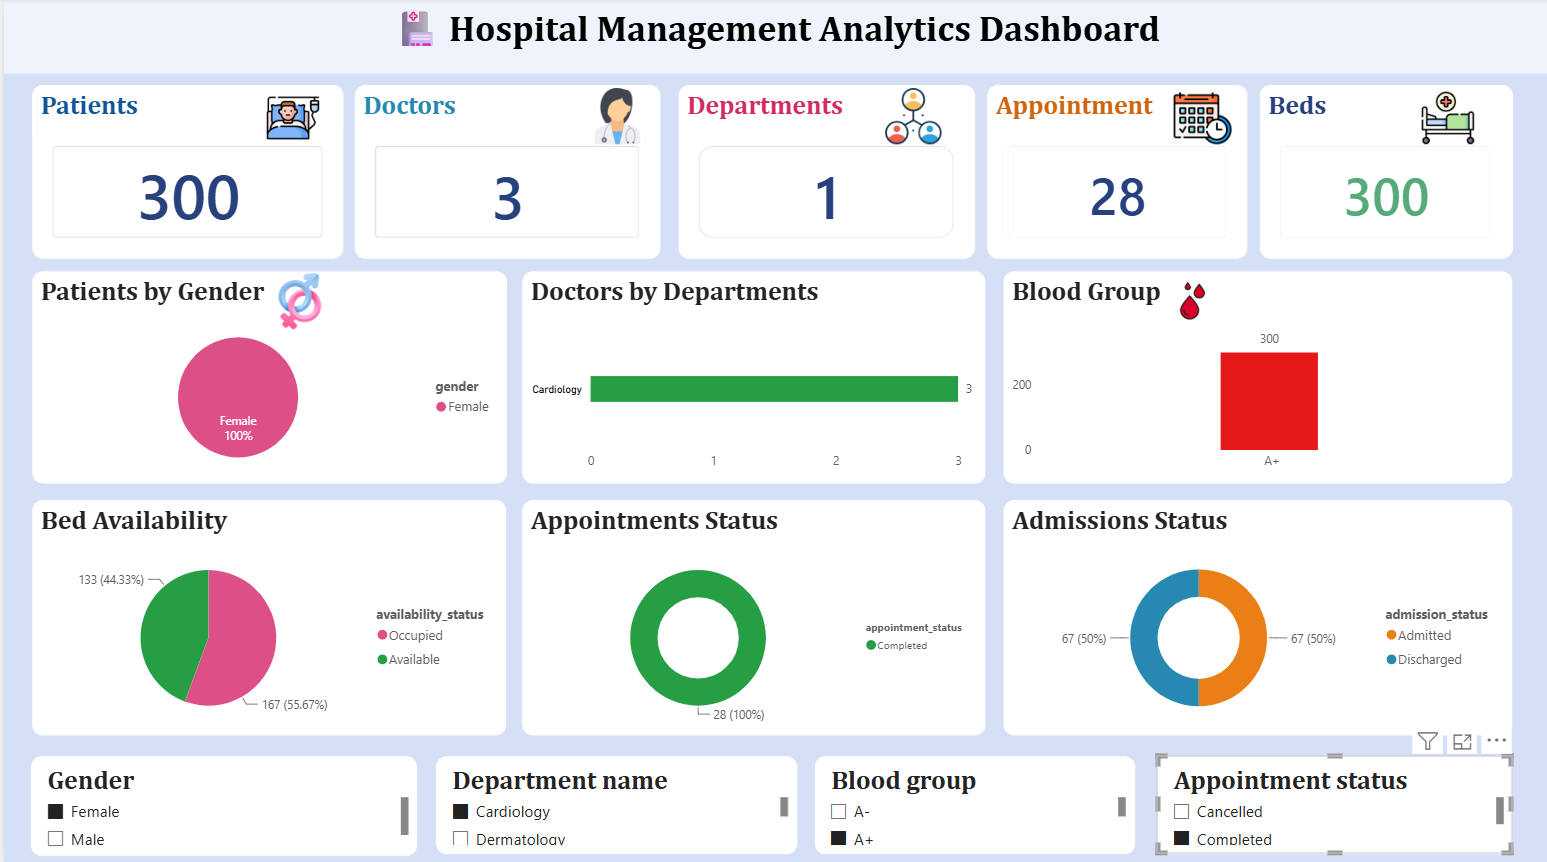

Layout of this report page (visuals, bound fields, positions):
{"tool":"powerbi","page":{"name":"Page 1","canvas":[1600,900],"ordinal":0},"visuals":[{"type":"cardVisual","title":"Beds","fields":{"Data":["CountNonNull(beds.bed_id)"]},"box":[1300,89.4,263.6,181.8],"z":2000},{"type":"cardVisual","title":"Appointment","fields":{"Data":["CountNonNull(appointments.appointment_id)"]},"box":[1017.5,89.3,271.2,181.8],"z":3000},{"type":"pieChart","title":"Patients by Gender","fields":{"Category":["patients.gender"],"Y":["CountNonNull(patients.patient_id)"]},"box":[27.9,281.9,493.9,221.2],"z":4000},{"type":"clusteredBarChart","title":"Doctors by Departments","fields":{"Category":["departments.department_name"],"Y":["CountNonNull(doctors.doctor_id)"]},"box":[536.4,281.8,481.8,221.2],"z":5000},{"type":"donutChart","title":"Appointments Status","fields":{"Category":["appointments.appointment_status"],"Y":["CountNonNull(appointments.appointment_id)"]},"box":[536.4,519.7,481.8,245.5],"z":6000},{"type":"clusteredColumnChart","title":"Blood Group","fields":{"Category":["patients.blood_group"],"Y":["CountNonNull(patients.patient_id)"]},"box":[1034.8,281.8,528.8,221.2],"z":7000},{"type":"pieChart","title":"Bed Availability","fields":{"Category":["beds.availability_status"],"Y":["CountNonNull(beds.bed_id)"]},"box":[28.8,519.7,492.4,245.5],"z":8000},{"type":"donutChart","title":"Admissions Status","fields":{"Category":["admissions.admission_status"],"Y":["CountNonNull(admissions.admission_id)"]},"box":[1034.8,519.7,528.8,245.5],"z":9000},{"type":"textbox","box":[0,0,1599.6,78.2],"z":10000},{"type":"slicer","fields":{"Values":["patients.gender"]},"box":[27.3,784.8,401.5,104.5],"z":11000},{"type":"slicer","fields":{"Values":["patients.blood_group"]},"box":[839.4,784.8,333.3,103],"z":12000},{"type":"slicer","fields":{"Values":["appointments.appointment_status"]},"box":[1193.9,784.8,369.7,103],"z":13000},{"type":"cardVisual","title":"Doctors","fields":{"Data":["CountNonNull(doctors.doctor_id)"]},"box":[362.9,89.3,318.2,181.8],"z":14000},{"type":"slicer","fields":{"Values":["departments.department_name"]},"box":[447,784.8,375.8,103],"z":15000},{"type":"group","id":"g1","title":"Group 1","box":[27.9,90,324.2,181.8],"z":15002},{"type":"image","box":[604.4,93.5,61.4,58.6],"z":15003},{"type":"image","box":[1207.4,94.9,69.8,60],"z":15005},{"type":"image","box":[1461.4,97.7,69.8,54.4],"z":15006},{"type":"image","box":[1207.4,294.5,48.9,39.1],"z":15007},{"type":"image","box":[275,284.7,64.2,58.6],"z":15008},{"type":"cardVisual","title":"Departments","fields":{"Data":["CountNonNull(departments.department_id)"]},"box":[697.9,89.3,308.5,181.5],"z":15009},{"type":"image","box":[907.3,93.5,71.2,58.6],"z":15010},{"type":"cardVisual","title":"Patients","fields":{"Data":["Count(patients.patient_id)"]},"box":[27.9,90,324.2,181.8],"z":18001,"group":"g1"},{"type":"image","box":[263.9,98.4,69.8,54.4],"z":19501,"group":"g1"}]}

Visuals, with their boxes in screenshot pixels (x1, y1, x2, y2), scaled from the page's 1600x900 canvas onto the 1547x862 screenshot:
"Beds" cardVisual: region(1257, 86, 1512, 260)
"Appointment" cardVisual: region(984, 86, 1246, 260)
"Patients by Gender" pieChart: region(27, 270, 505, 482)
"Doctors by Departments" clusteredBarChart: region(519, 270, 984, 482)
"Appointments Status" donutChart: region(519, 498, 984, 733)
"Blood Group" clusteredColumnChart: region(1001, 270, 1512, 482)
"Bed Availability" pieChart: region(28, 498, 504, 733)
"Admissions Status" donutChart: region(1001, 498, 1512, 733)
textbox: region(0, 0, 1546, 75)
slicer - patients.gender: region(26, 752, 415, 852)
slicer - patients.blood_group: region(812, 752, 1134, 850)
slicer - appointments.appointment_status: region(1154, 752, 1512, 850)
"Doctors" cardVisual: region(351, 86, 659, 260)
slicer - departments.department_name: region(432, 752, 796, 850)
"Group 1" group: region(27, 86, 340, 260)
image: region(584, 90, 644, 146)
image: region(1167, 91, 1235, 148)
image: region(1413, 94, 1480, 146)
image: region(1167, 282, 1215, 320)
image: region(266, 273, 328, 329)
"Departments" cardVisual: region(675, 86, 973, 259)
image: region(877, 90, 946, 146)
"Patients" cardVisual: region(27, 86, 340, 260)
image: region(255, 94, 323, 146)
